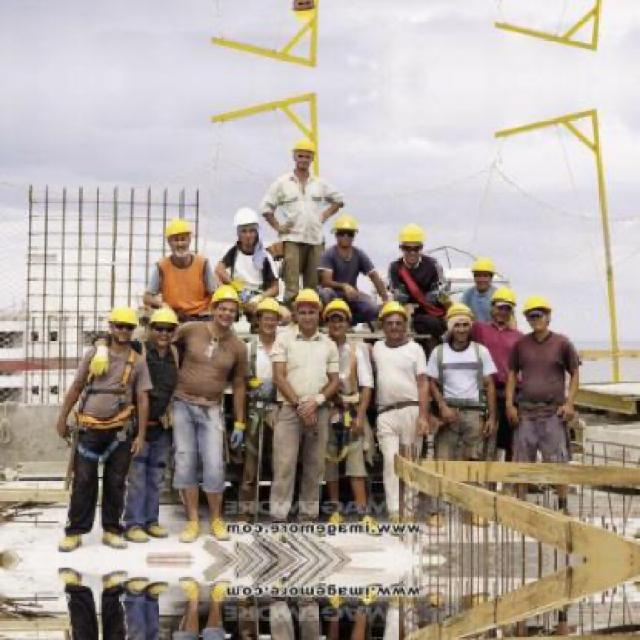helmet: (163, 212, 200, 258), (443, 298, 475, 348), (103, 305, 142, 346), (145, 306, 180, 351), (229, 203, 263, 248), (209, 284, 243, 328), (523, 296, 560, 336), (289, 130, 320, 176), (292, 286, 322, 332), (252, 294, 283, 338), (323, 295, 352, 340), (378, 300, 409, 342), (399, 220, 426, 268), (489, 285, 520, 320), (288, 0, 321, 32), (332, 214, 356, 254), (471, 255, 495, 294)
